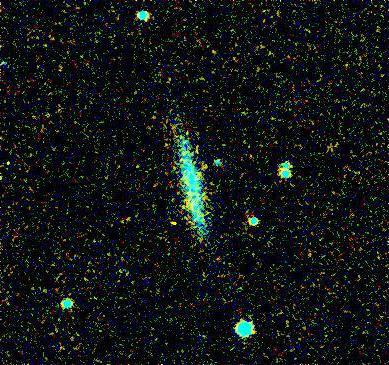star: (161, 207, 191, 237)
